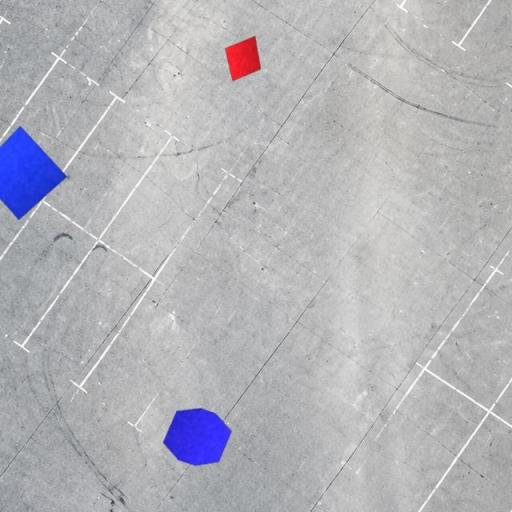BLUE_SQUARE: (0, 126, 68, 220)
RED_SQUARE: (224, 35, 262, 82)
